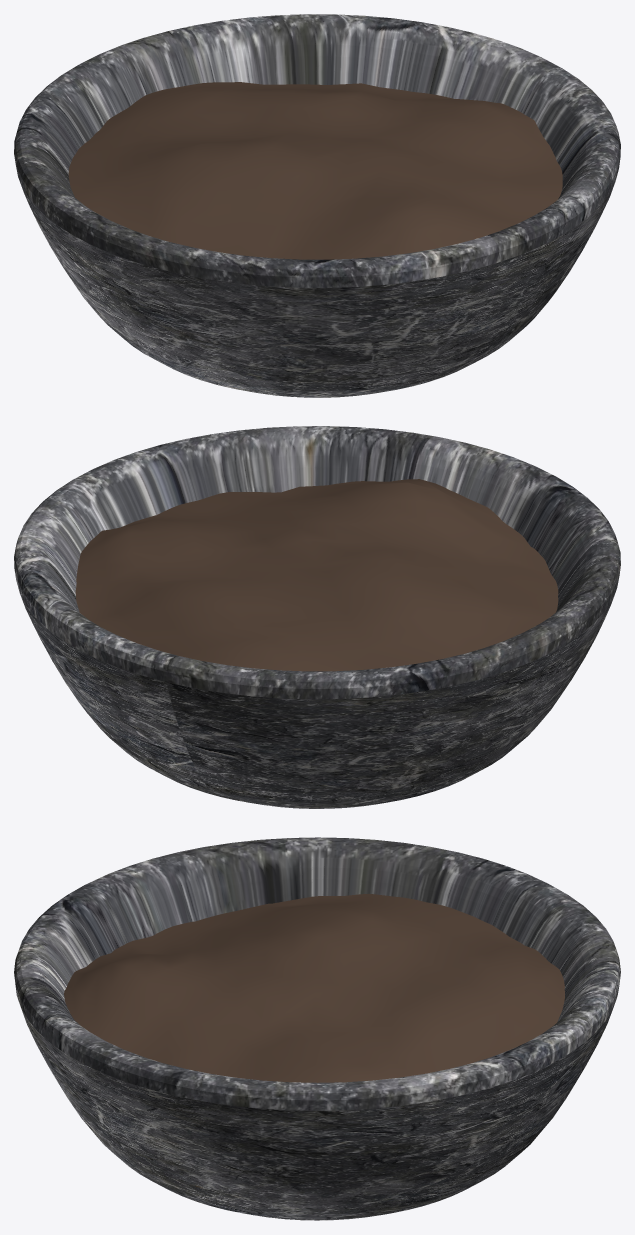
File: Paso 1.fbx
3 views of the same model, one above another, from view 1: azimuth 30°, elevation 25°; view 2: azimuth 150°, elevation 25°; view 3: azimuth 270°, elevation 25° (orthographic).
Visible parts, largest first — view 1: Cylinder.004, Circle.001; view 2: Cylinder.004, Circle.001; view 3: Cylinder.004, Circle.001.
Part boxes in pixels (<box>): Cylinder.004: <box>14,14,620,397</box>; Circle.001: <box>68,82,562,259</box>; Cylinder.004: <box>14,426,620,808</box>; Circle.001: <box>75,479,558,671</box>; Cylinder.004: <box>14,837,620,1220</box>; Circle.001: <box>64,893,564,1082</box>.
Size of the model in its own units: 41.32 by 16.08 by 41.32.
2 materials, 2 textured.
